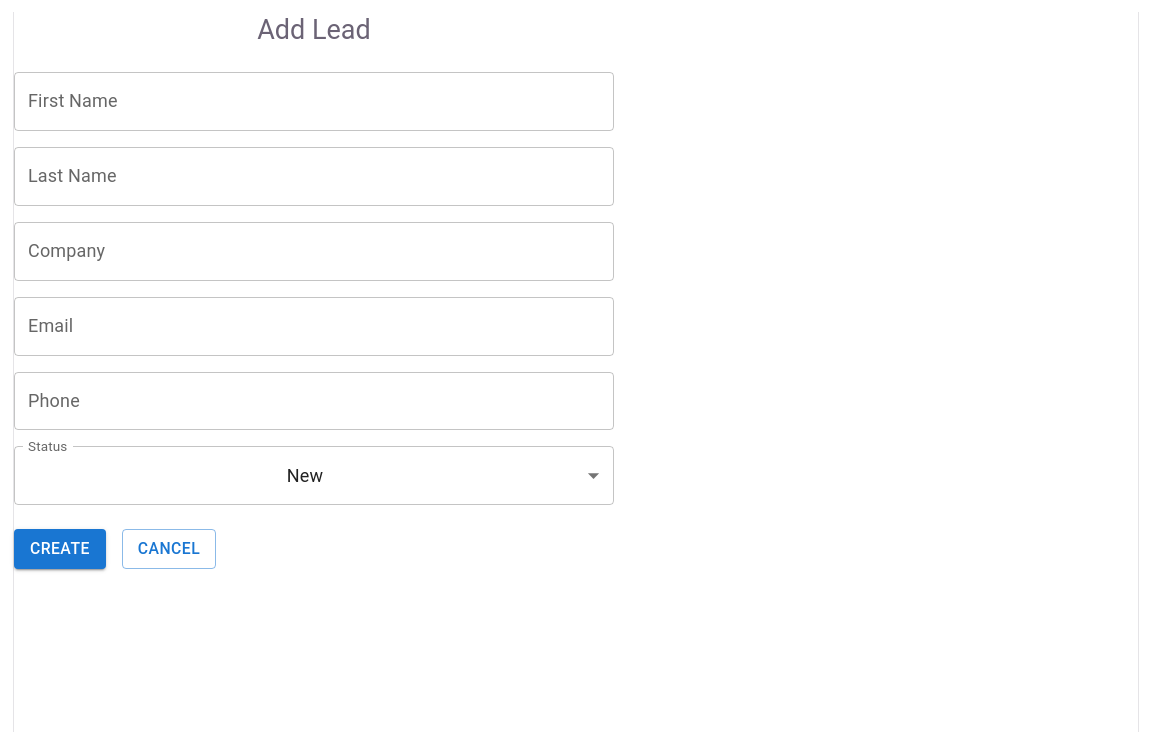
LeadFormPage › shows validation error when Company is empty on submit
Type "Alice" into the field labelled "First Name" at (314, 101), box [14, 72, 614, 131]
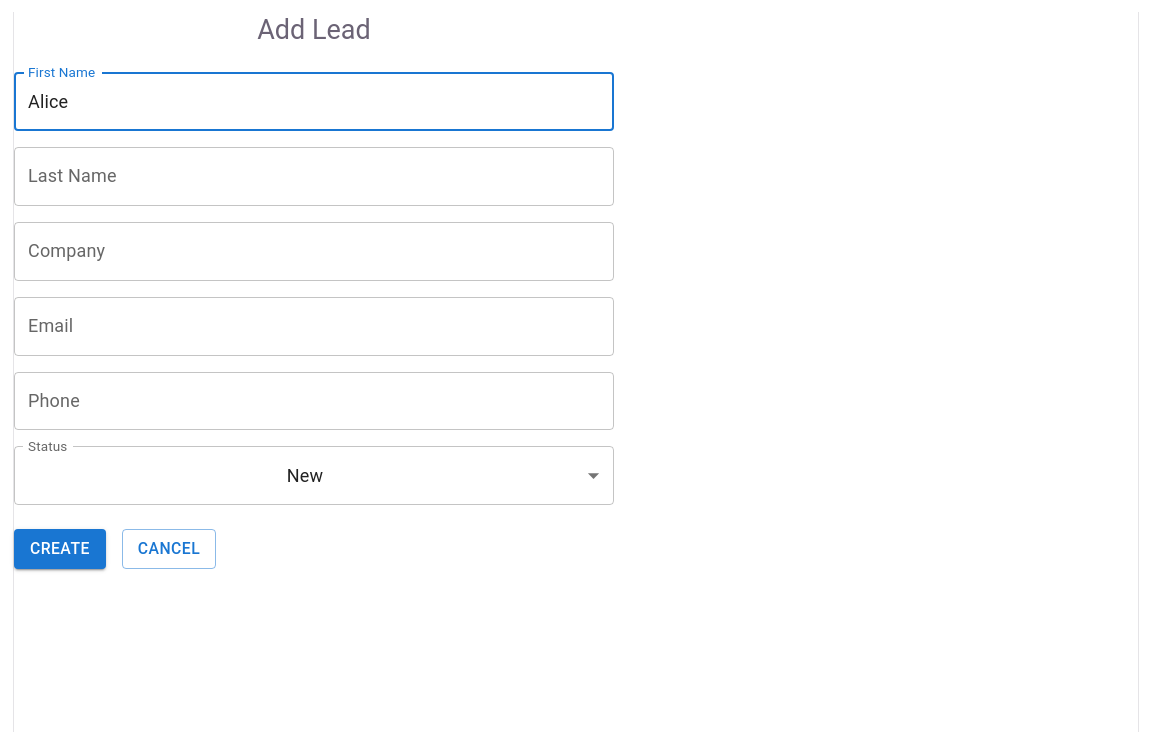
Click the button "Create" at (60, 549), box [14, 529, 106, 569]
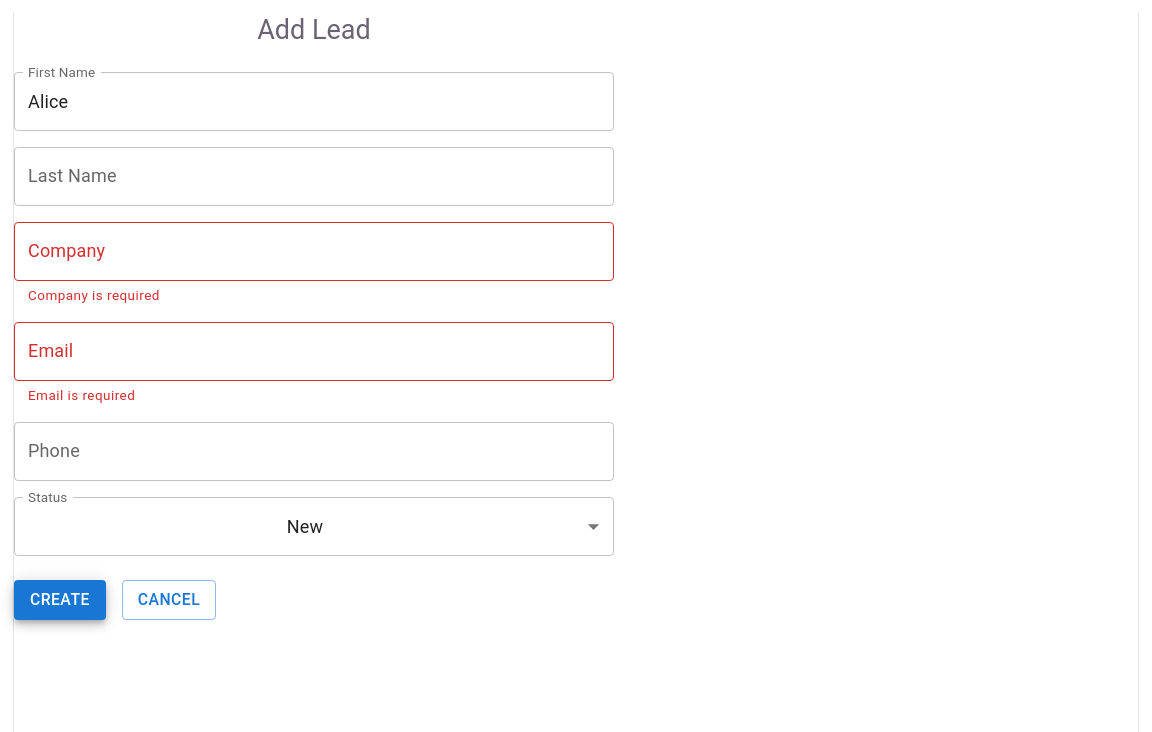
Expected: the text "Company is required" is shown, [28, 287, 160, 303]
